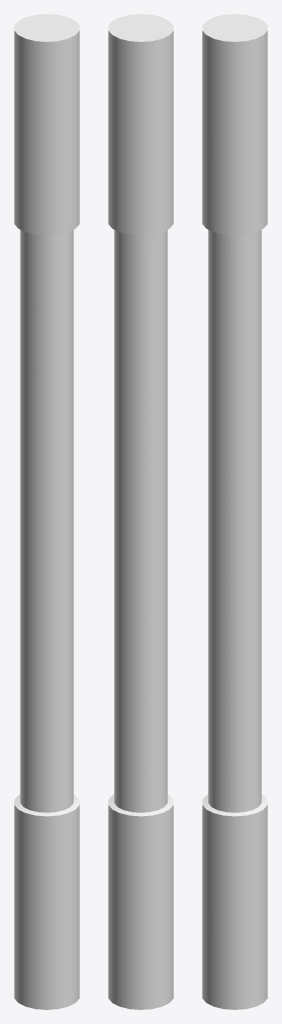
The model's file is jingubang.FBX.
The picture shows the model from 3 angles, left to right: view 1: azimuth 30°, elevation 25°; view 2: azimuth 210°, elevation 25°; view 3: azimuth 270°, elevation 25°; orthographic projection.
Visible parts, largest first — view 1: Cylinder001; view 2: Cylinder001; view 3: Cylinder001.
Boxes of the visible parts, box(x1,y1,x2,y2) form: Cylinder001: box(14, 14, 79, 1009); Cylinder001: box(108, 14, 173, 1009); Cylinder001: box(202, 14, 267, 1009).
Size of the model in its own units: 4.66 by 75.06 by 4.59.
